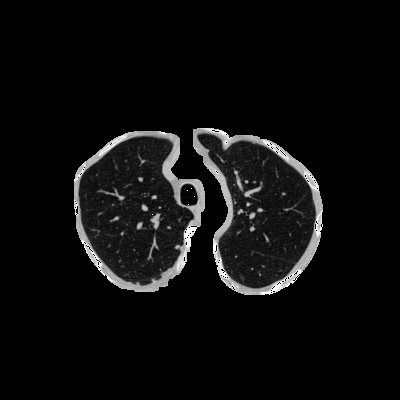PN: (175, 245, 179, 249)
